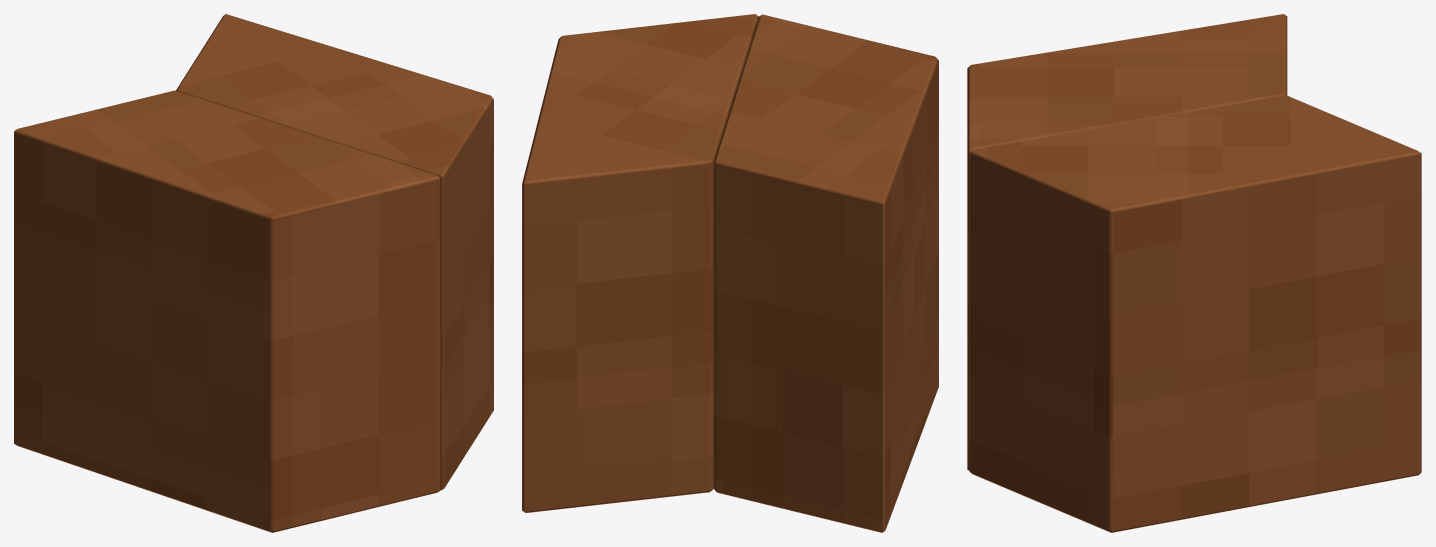
Rendered from CornerKey-1.glb.
3 renders of one model, left to right at view 1: azimuth 30°, elevation 25°; view 2: azimuth 150°, elevation 25°; view 3: azimuth 270°, elevation 25°, orthographic. The views are drawn at different scales.
Parts seen in each view (by area): view 1: CornerKey-1; view 2: CornerKey-1; view 3: CornerKey-1.
Part boxes in pixels (bbox=[...]): CornerKey-1: bbox=[14, 14, 493, 532]; CornerKey-1: bbox=[522, 14, 938, 532]; CornerKey-1: bbox=[967, 14, 1421, 532].
Size of the model in its own units: 0.2698 by 0.207 by 0.2626.
1 material, 1 textured.
